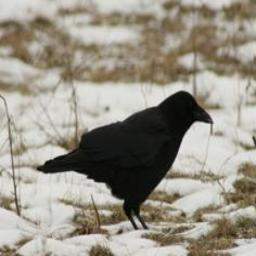Crow: (38, 81, 219, 233)
